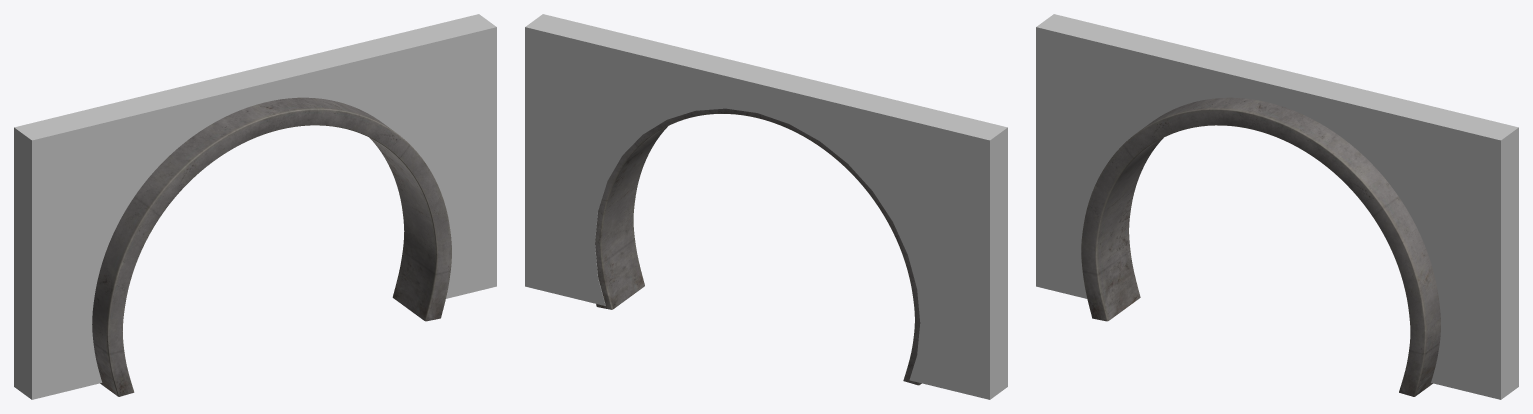
File: TunnelEntrance.fbx
3 views of the same model, side by side, from view 1: azimuth 30°, elevation 25°; view 2: azimuth 150°, elevation 25°; view 3: azimuth 330°, elevation 25° (orthographic).
Visible parts, largest first — view 1: wall, tunnel_entrance; view 2: wall, tunnel_entrance; view 3: wall, tunnel_entrance.
Part boxes in pixels (x1,y1,x2,y2): wall: (14, 14, 496, 399); tunnel_entrance: (92, 97, 451, 396); wall: (525, 14, 1007, 399); tunnel_entrance: (595, 108, 921, 385); wall: (1036, 14, 1518, 399); tunnel_entrance: (1081, 97, 1440, 396).
Size of the model in its own units: 3000 by 1619 by 374.
